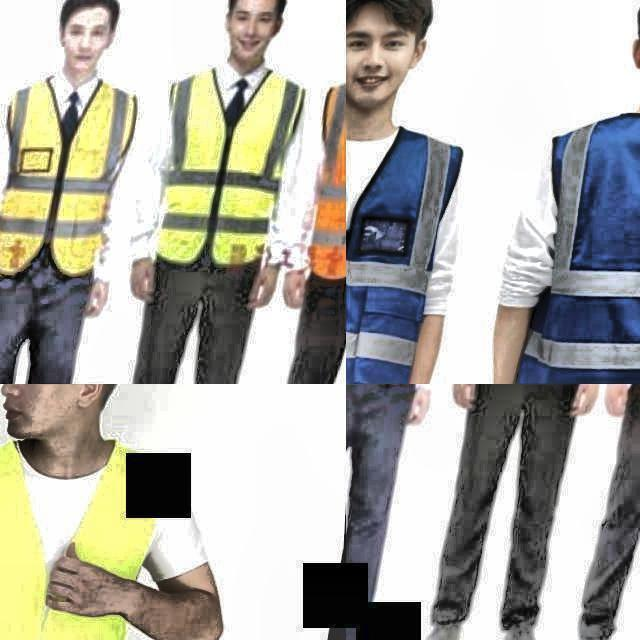safety_jacket: (0, 415, 170, 640), (511, 89, 640, 384), (346, 105, 456, 384), (160, 53, 304, 265), (0, 58, 139, 275), (310, 61, 346, 291)
